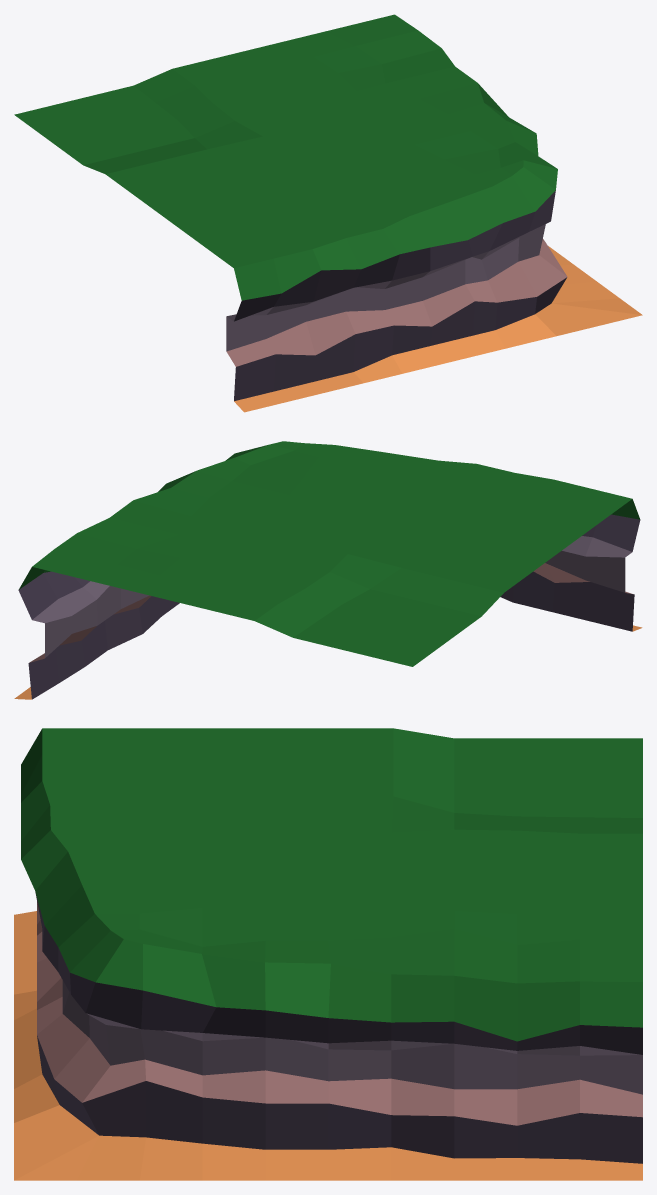
Rendered from Barranco_a_Playa_Esquina.fbx.
The picture shows the model from 3 angles, top to bottom: view 1: azimuth 30°, elevation 25°; view 2: azimuth 150°, elevation 25°; view 3: azimuth 270°, elevation 25°; orthographic projection. The views are drawn at different scales.
Parts seen in each view (by area): view 1: Barranco_a_Playa_Esquina; view 2: Barranco_a_Playa_Esquina; view 3: Barranco_a_Playa_Esquina.
Boxes of the visible parts, bbox=[...] form: Barranco_a_Playa_Esquina: bbox=[14, 14, 642, 412]; Barranco_a_Playa_Esquina: bbox=[14, 441, 642, 699]; Barranco_a_Playa_Esquina: bbox=[14, 728, 642, 1180].
Bounding box in the file's own units: 2000 × 662 × 2000.
